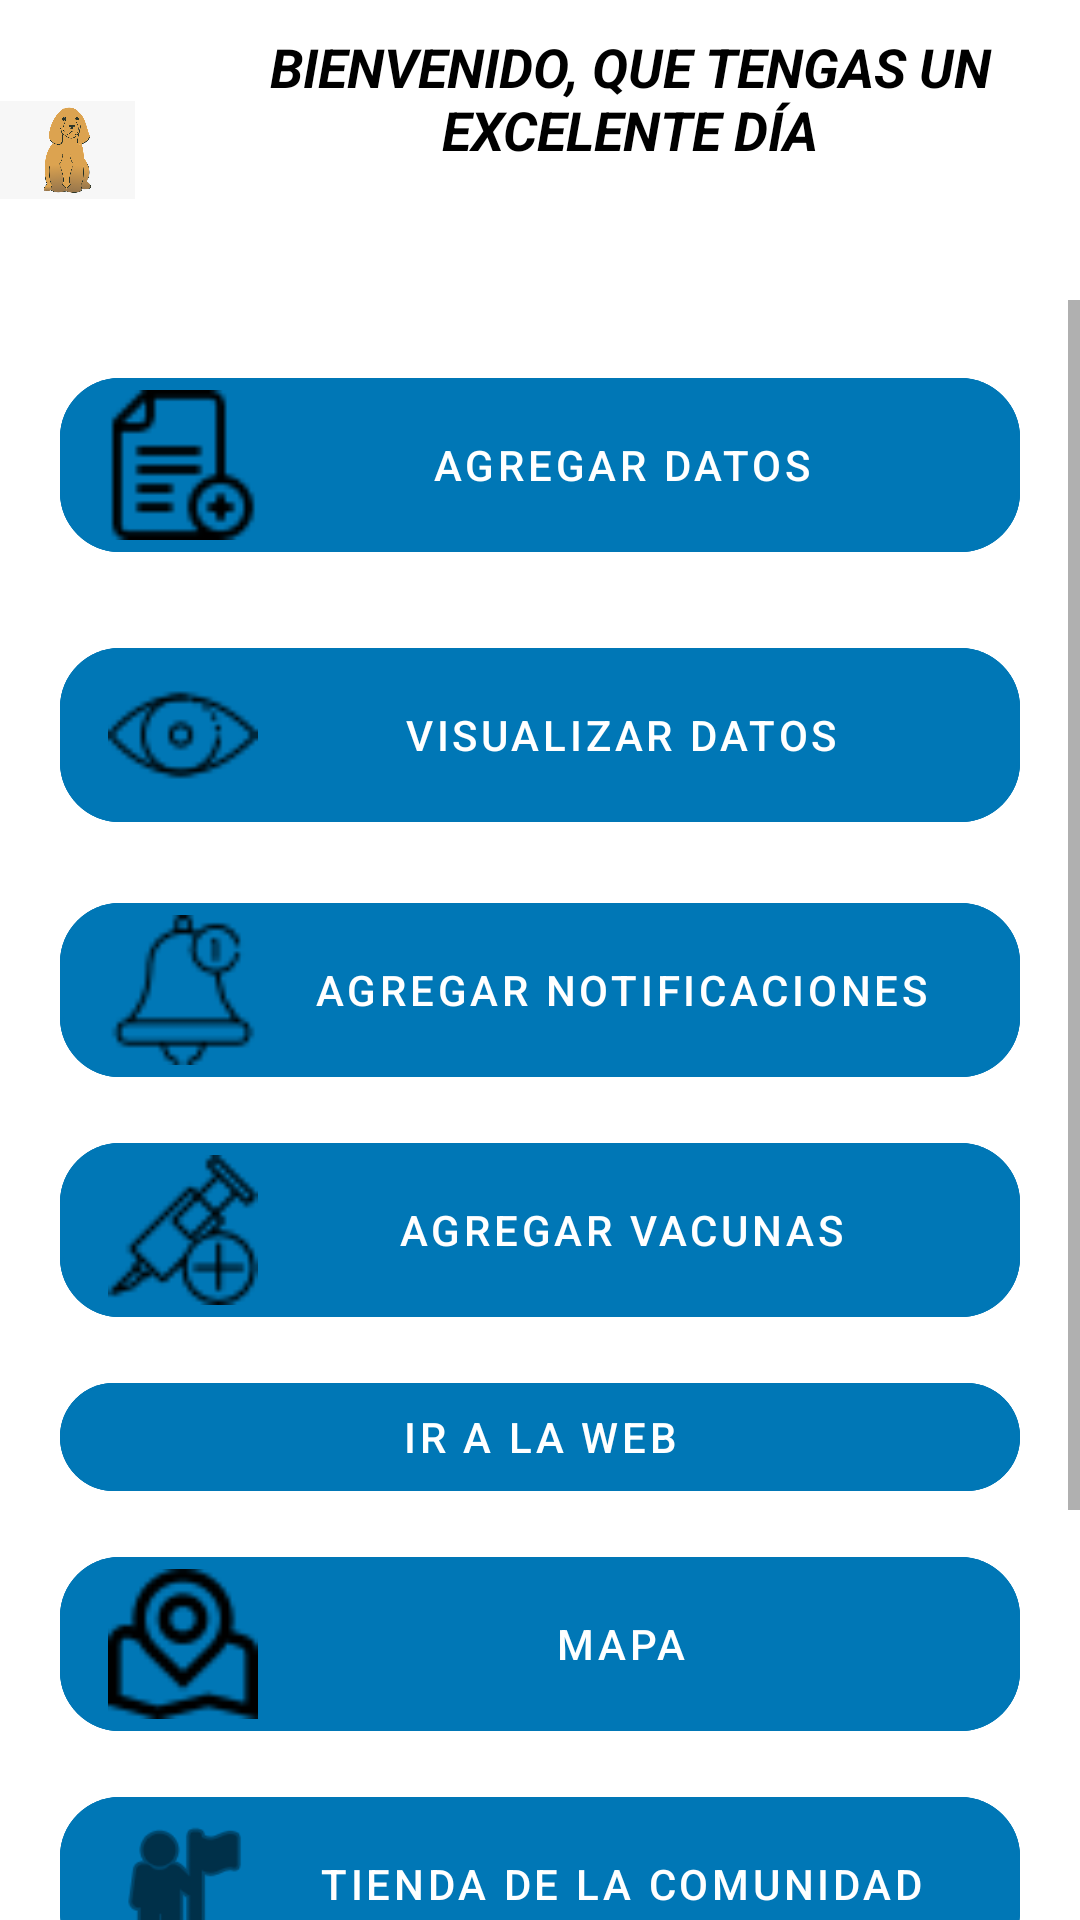

Icons on this 1080px×1920px Android screen, each with its box as rect(x1, y1, x2, y2):
perrito: rect(44, 107, 91, 193)
